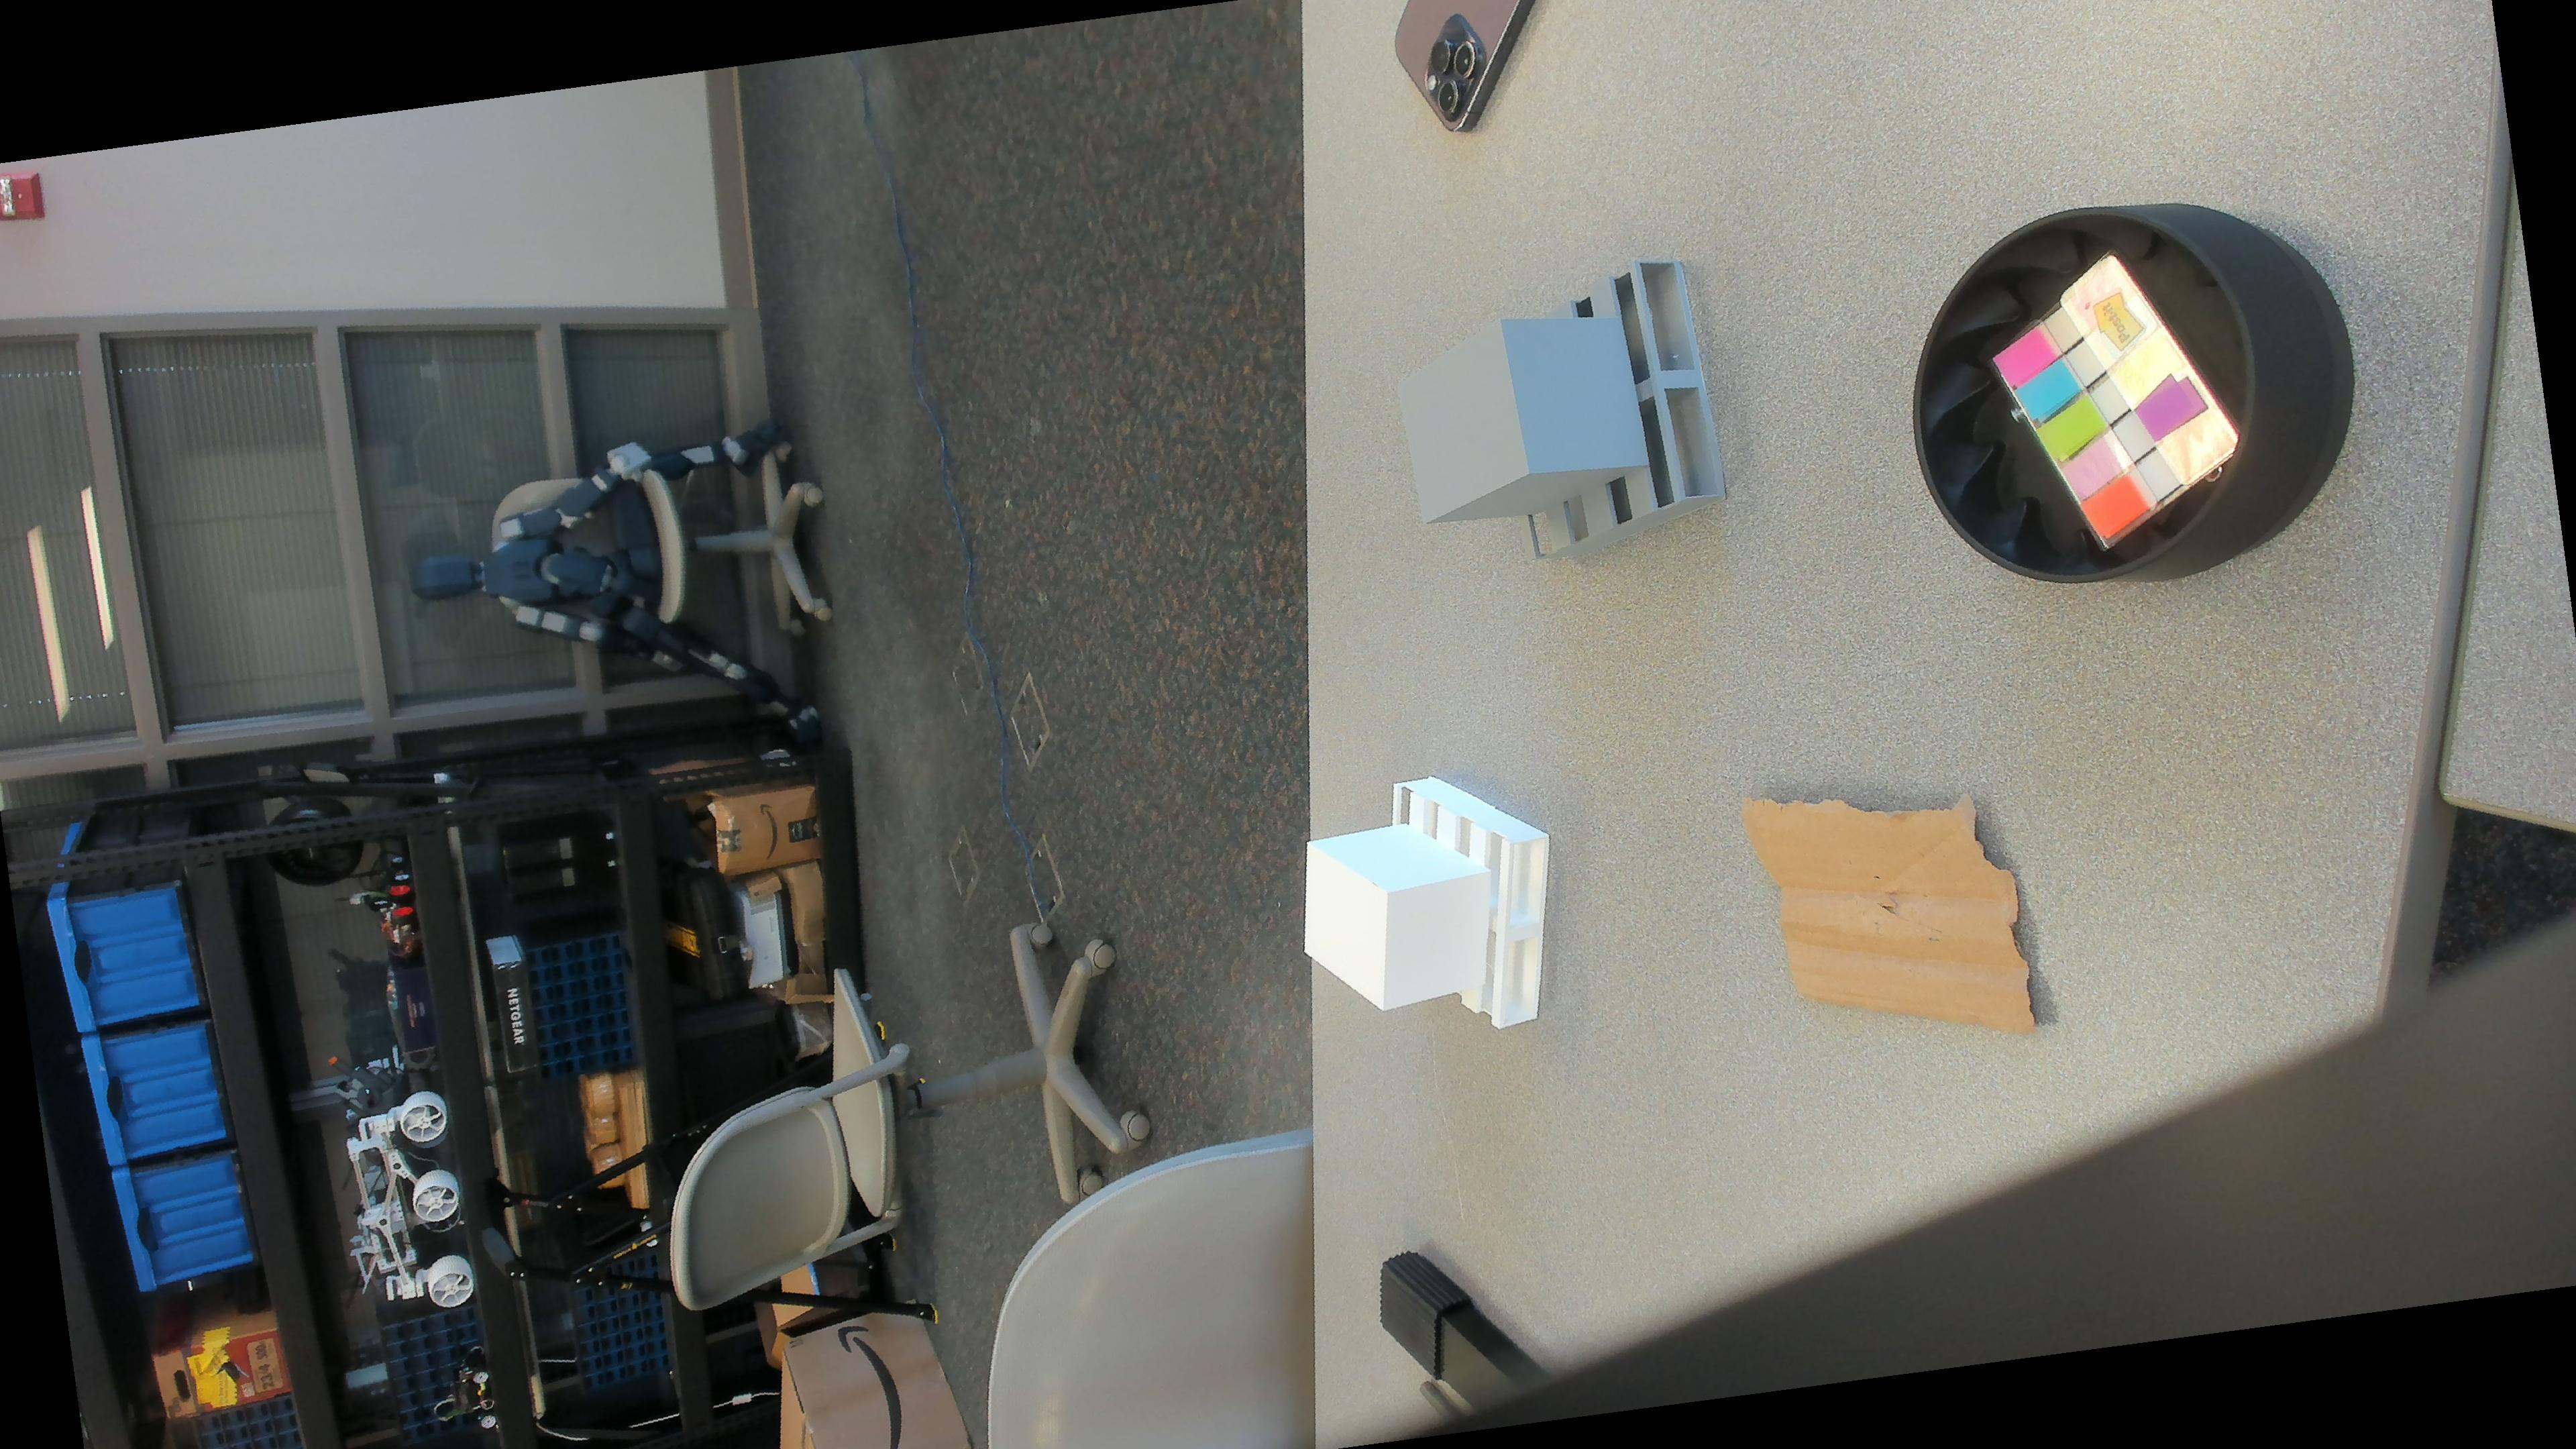grey pallet: (1385, 253, 1755, 579)
white pallet: (1283, 766, 1553, 1044)
